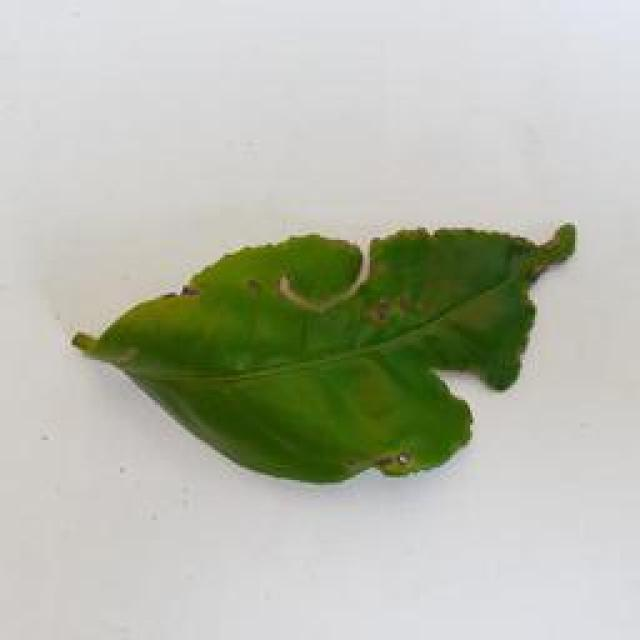Helopeltis: (68, 198, 589, 508)
